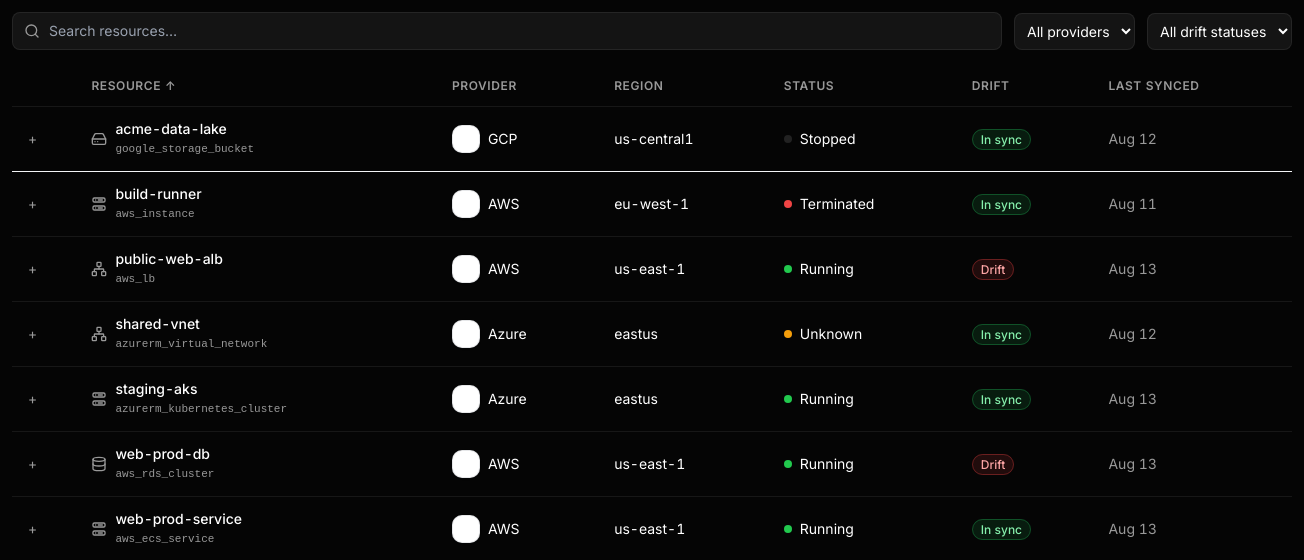
ResourceTable › shows an empty message when nothing matches
In the field labelled "Search resources": x=507, y=31 [12, 12, 1002, 50], type "zzz-no-match"
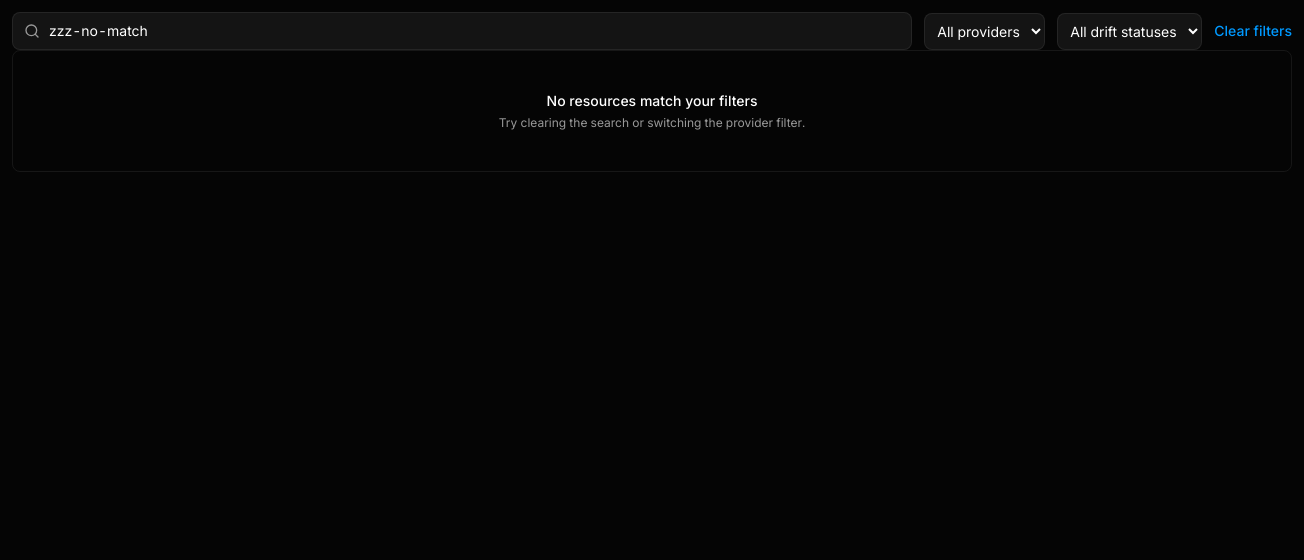
Expected: the text "No resources match your filters" is shown, [547, 92, 758, 109]
